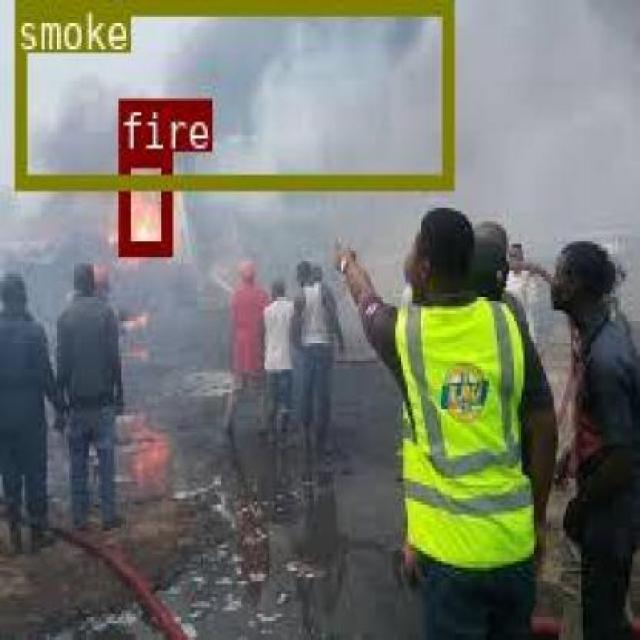Fire: (119, 151, 170, 254)
Smoke: (12, 0, 452, 188)
